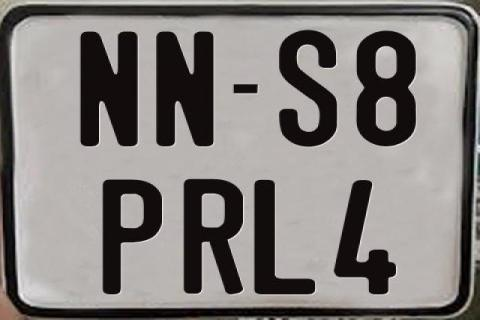0: (334, 178, 401, 294), (356, 29, 416, 145)
L: (252, 178, 319, 292)
N: (80, 31, 142, 151), (155, 31, 215, 149)
P: (100, 179, 161, 295)
R: (183, 179, 242, 295)
S: (278, 27, 339, 145)
